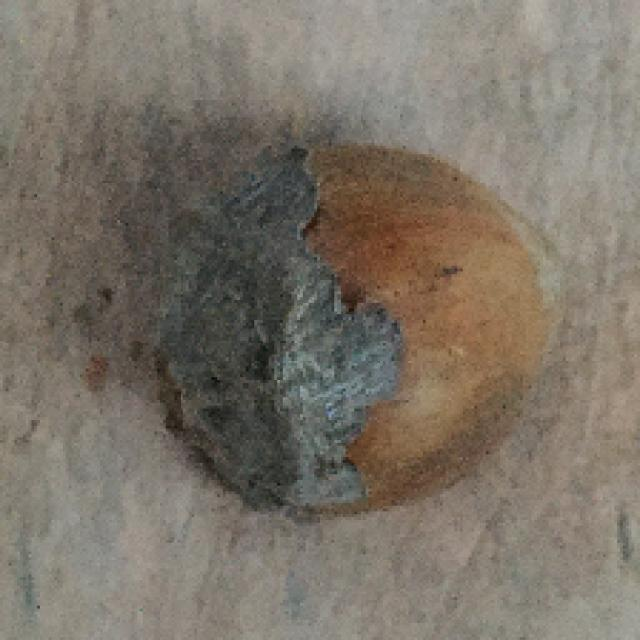damagedHazelnut: (153, 136, 572, 527)
